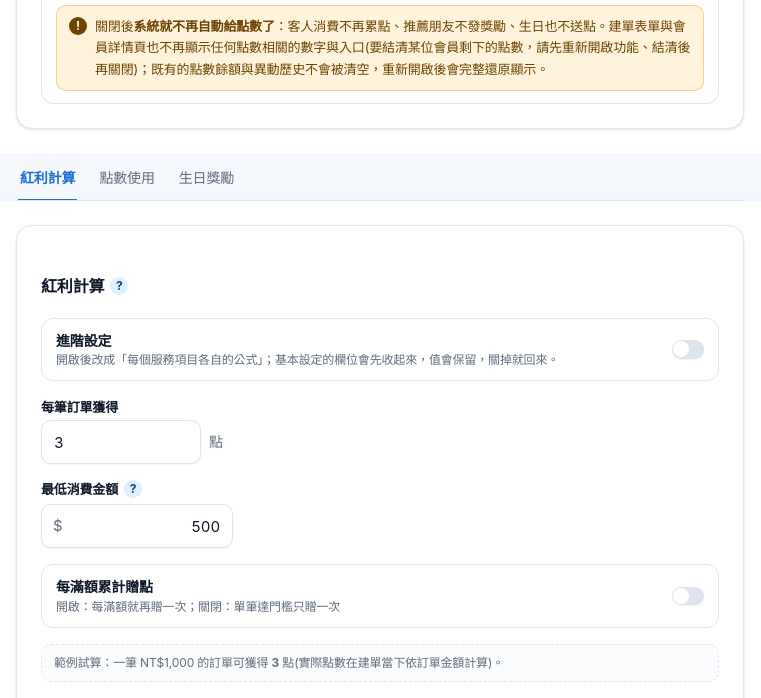
Test: §4.2 紅利計算 › 公式名稱空白 ⇒ 欄位標紅 + 儲存鈕不能按 + 常駐 `!` 說明原因
(page scrolled)
Click the switch named "進階設定" in the row of "進階設定" at (688, 350), box [672,340,704,359]
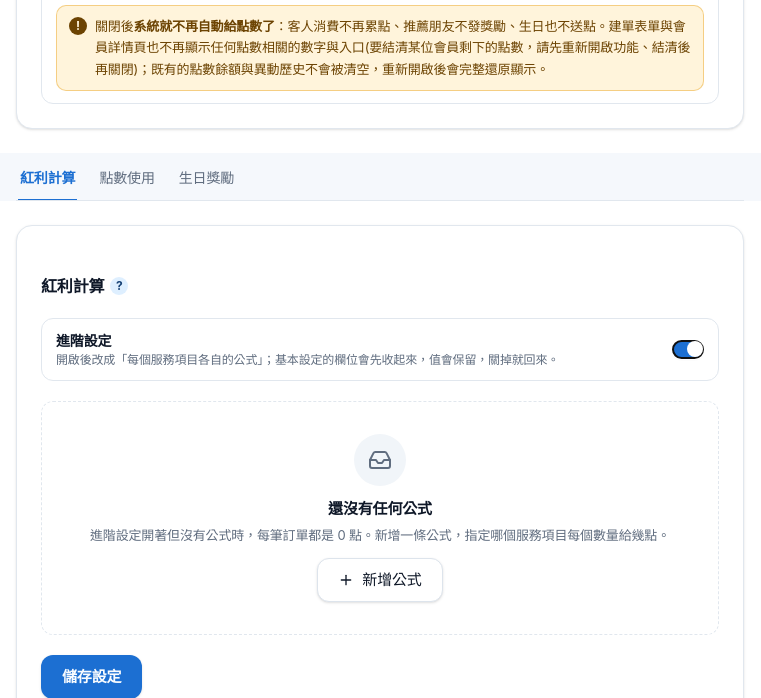
Click the button "新增公式" at (380, 580), box [317,558,443,602]
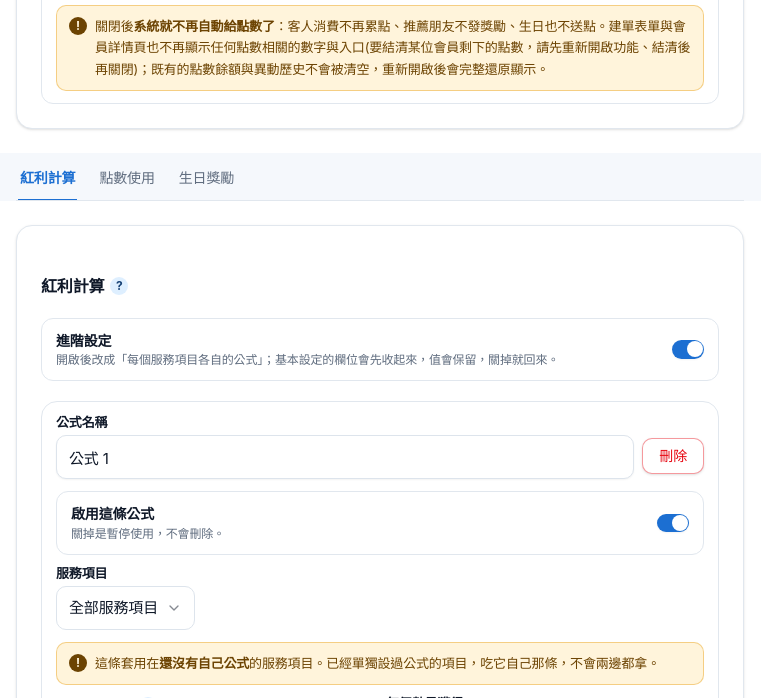
Clear the field labelled "公式名稱" at (345, 457), box [56,435,634,479]
(page scrolled)
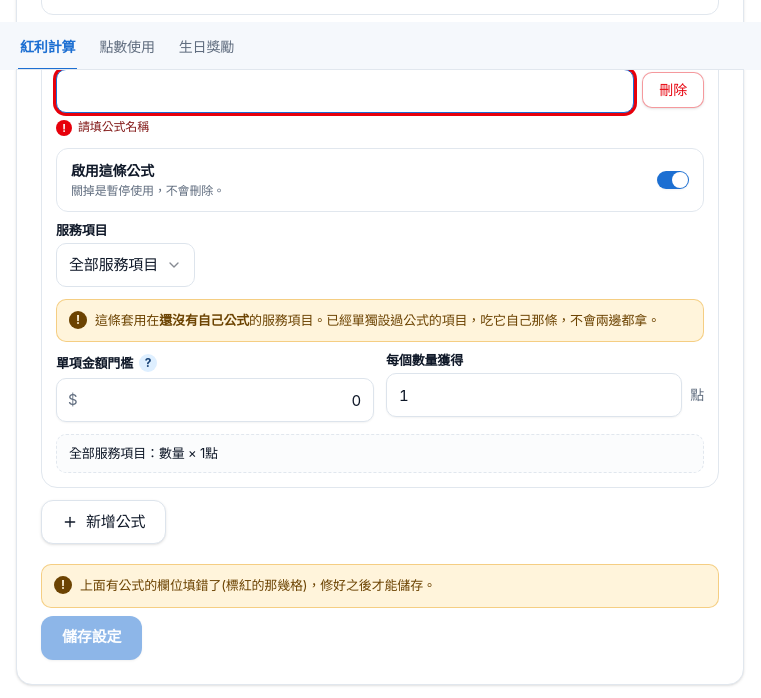
Now the text "請填公式名稱" is shown, box [78,119,149,136]
Now the button "儲存設定" is disabled, box [41,616,142,660]
Now the text "上面有公式的欄位填錯了(標紅的那幾格)，修好之後才能儲存。" is shown, box [80,577,436,593]
